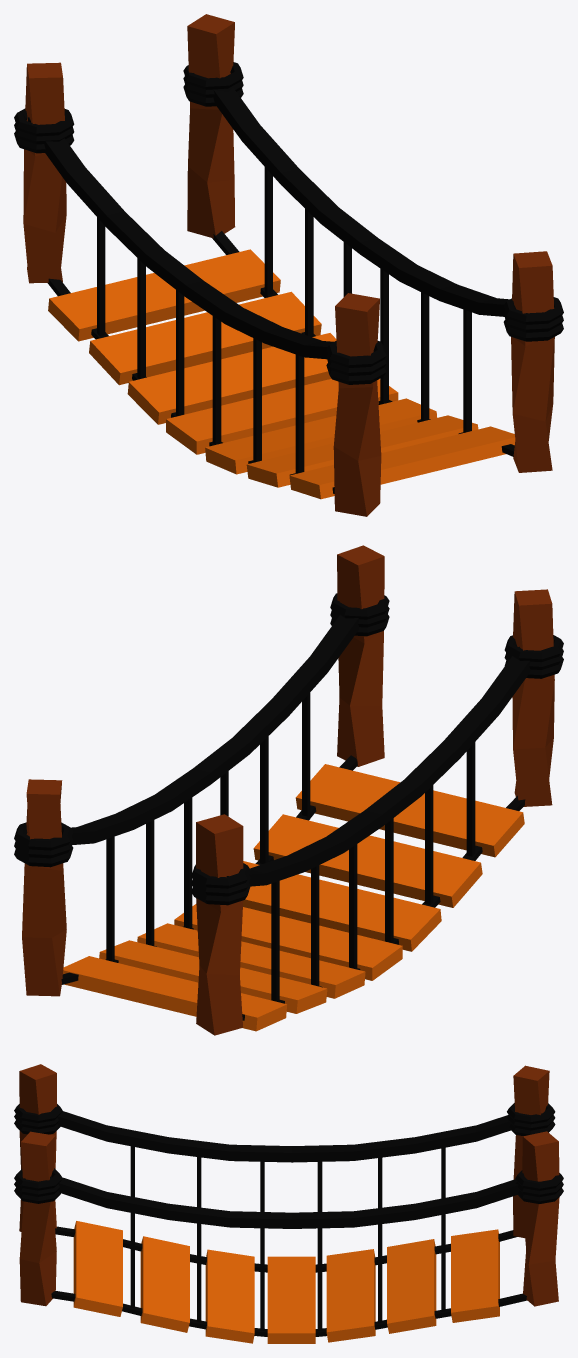
Rendered from suspensionBridge.fbx.
3 views of the same model, one above another, from view 1: azimuth 30°, elevation 25°; view 2: azimuth 150°, elevation 25°; view 3: azimuth 270°, elevation 25° (orthographic). The views are drawn at different scales.
Parts seen in each view (by area): view 1: Cube.010; view 2: Cube.010; view 3: Cube.010.
Part boxes in pixels (bbox=[...]): Cube.010: bbox=[14, 14, 563, 516]; Cube.010: bbox=[14, 545, 563, 1035]; Cube.010: bbox=[14, 1064, 563, 1343].
Bounding box in the file's own units: 863 × 912 × 2269.
